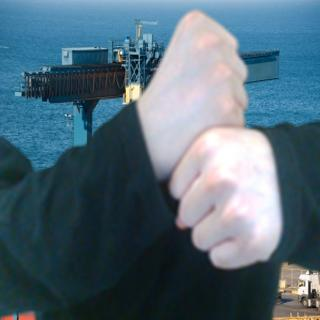CAREFUL: (128, 3, 286, 282)
